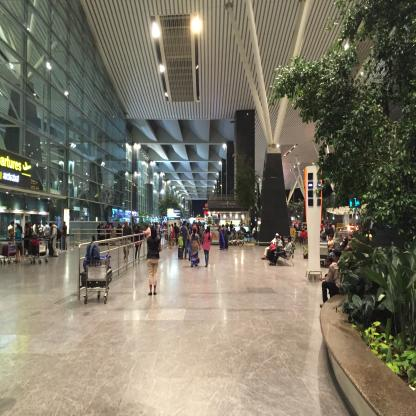airport-trolley: (79, 246, 114, 304)
